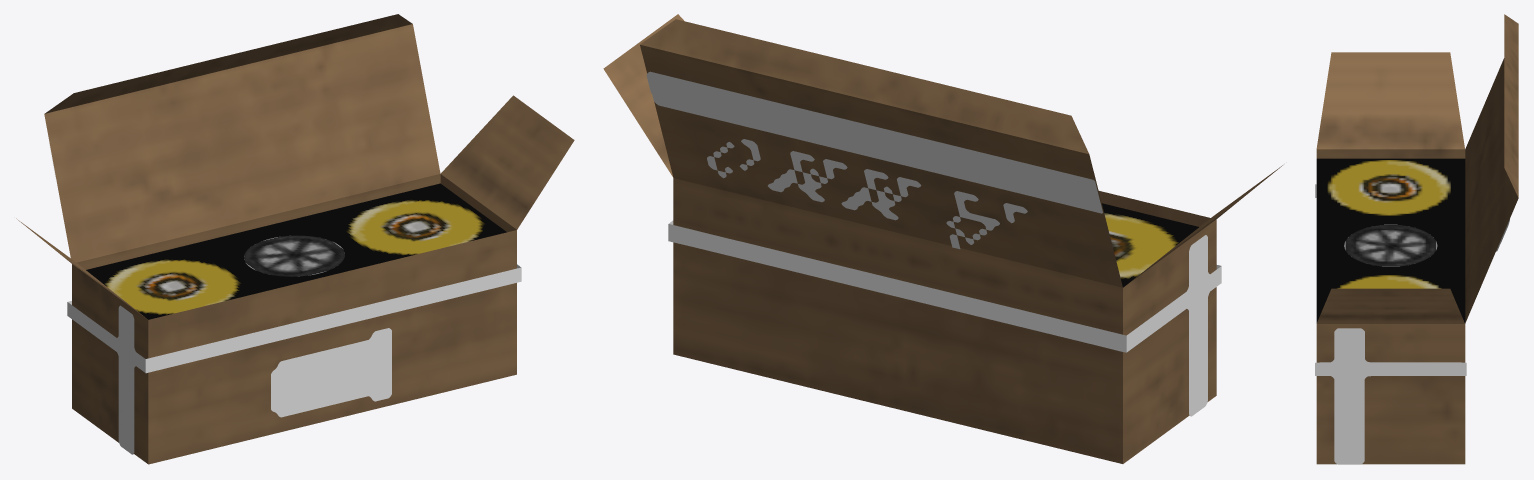
Rendered from AmmoBox_Small.fbx.
The picture shows the model from 3 angles, left to right: view 1: azimuth 30°, elevation 25°; view 2: azimuth 150°, elevation 25°; view 3: azimuth 270°, elevation 25°; orthographic projection. The views are drawn at different scales.
Visible parts, largest first — view 1: AmmoBox_Shotgun_Small; view 2: AmmoBox_Shotgun_Small; view 3: AmmoBox_Shotgun_Small.
Boxes of the visible parts, left/top/right/bottom form: AmmoBox_Shotgun_Small: left=16, top=14, right=574, bottom=464; AmmoBox_Shotgun_Small: left=603, top=14, right=1282, bottom=463; AmmoBox_Shotgun_Small: left=1315, top=14, right=1518, bottom=464.
Bounding box in the file's own units: 0.8121 × 0.2977 × 0.459.
